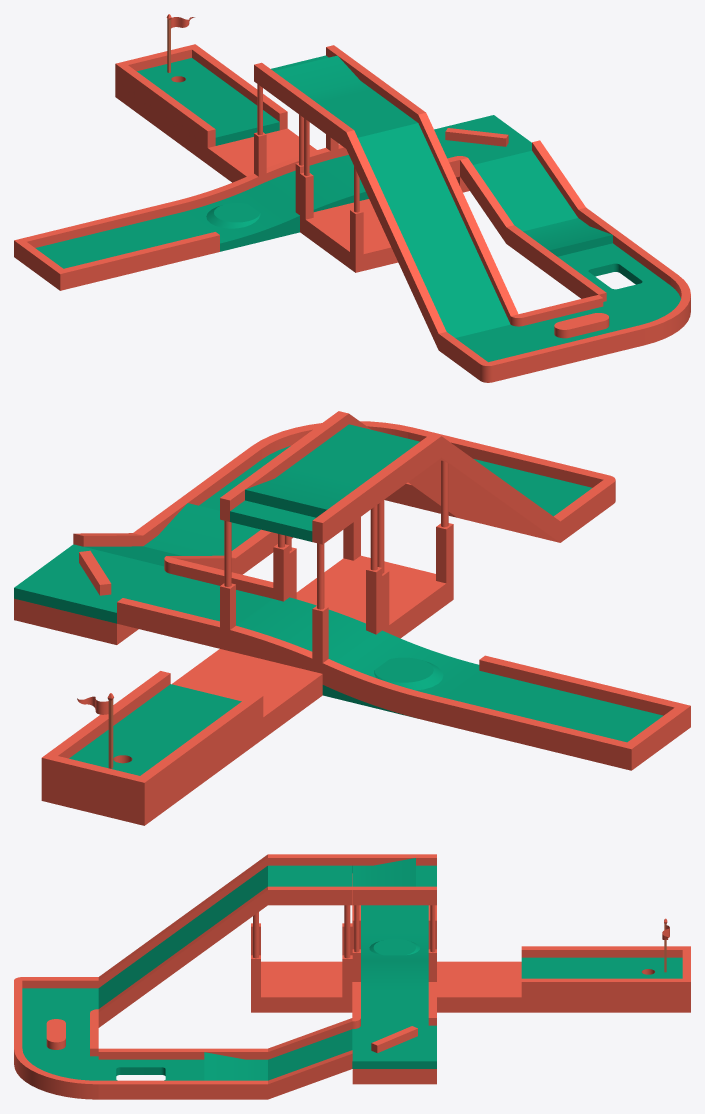
File: Level10.fbx
3 renders of one model, top to bottom at view 1: azimuth 30°, elevation 25°; view 2: azimuth 150°, elevation 25°; view 3: azimuth 270°, elevation 25°, orthographic. The views are drawn at different scales.
Parts seen in each view (by area): view 1: slope_straightD (×2), straight (×3), straight_slope (×2), open_block (×5), slope_side_smoothA_long, slope_straightB, end, corner_square, straight_obstacleRound, end_hole, straight_hole, detail_supports (×2) (+4 smaller); view 2: straight (×4), open_block (×6), straight_slope (×2), slope_side_smoothA_long, end, detail_supports (×2), end_hole, slope_straightD (×2), corner_square, corner_inner, open_diagonal, straight_obstacleRound (+5 smaller); view 3: straight (×4), open_block (×6), slope_straightD (×2), straight_slope (×2), slope_straightB, end_hole, straight_hole, corner_square, detail_supports (×2), slope_side_smoothA_long, straight_obstacleRound, bend_open (+3 smaller).
Boxes of the visible parts, x1,y1,x2,y2 form: slope_straightD (×2): (346, 113, 518, 349); straight (×3): (94, 78, 425, 271); straight_slope (×2): (254, 45, 631, 276); open_block (×5): (115, 80, 398, 272); slope_side_smoothA_long: (174, 148, 368, 251); slope_straightB: (460, 140, 585, 243); end: (14, 221, 139, 290); corner_square: (438, 314, 564, 382); straight_obstacleRound: (519, 295, 644, 364); end_hole: (115, 44, 240, 113); straight_hole: (552, 241, 678, 301); detail_supports (×2): (254, 84, 363, 271); straight (×4): (104, 411, 587, 760); open_block (×6): (14, 555, 453, 825); straight_slope (×2): (133, 454, 382, 574); slope_side_smoothA_long: (220, 597, 479, 720); end: (528, 680, 690, 770); detail_supports (×2): (220, 460, 453, 662); end_hole: (41, 714, 203, 804); slope_straightD (×2): (349, 414, 560, 542); corner_square: (499, 453, 615, 542); corner_inner: (14, 544, 175, 623); open_diagonal: (14, 545, 168, 598); straight_obstacleRound: (384, 428, 516, 517); straight (×4): (268, 854, 606, 1025); open_block (×6): (251, 961, 690, 1084); slope_straightD (×2): (98, 854, 267, 1027); straight_slope (×2): (183, 854, 436, 1099); slope_straightB: (268, 1018, 352, 1099); end_hole: (606, 946, 690, 997); straight_hole: (98, 1048, 183, 1099); corner_square: (14, 977, 98, 1020); detail_supports (×2): (251, 905, 436, 1012); slope_side_smoothA_long: (361, 933, 428, 989); straight_obstacleRound: (14, 1012, 98, 1056); bend_open: (14, 1048, 98, 1099).
Bounding box in the file's own units: 60 × 18 × 80.
